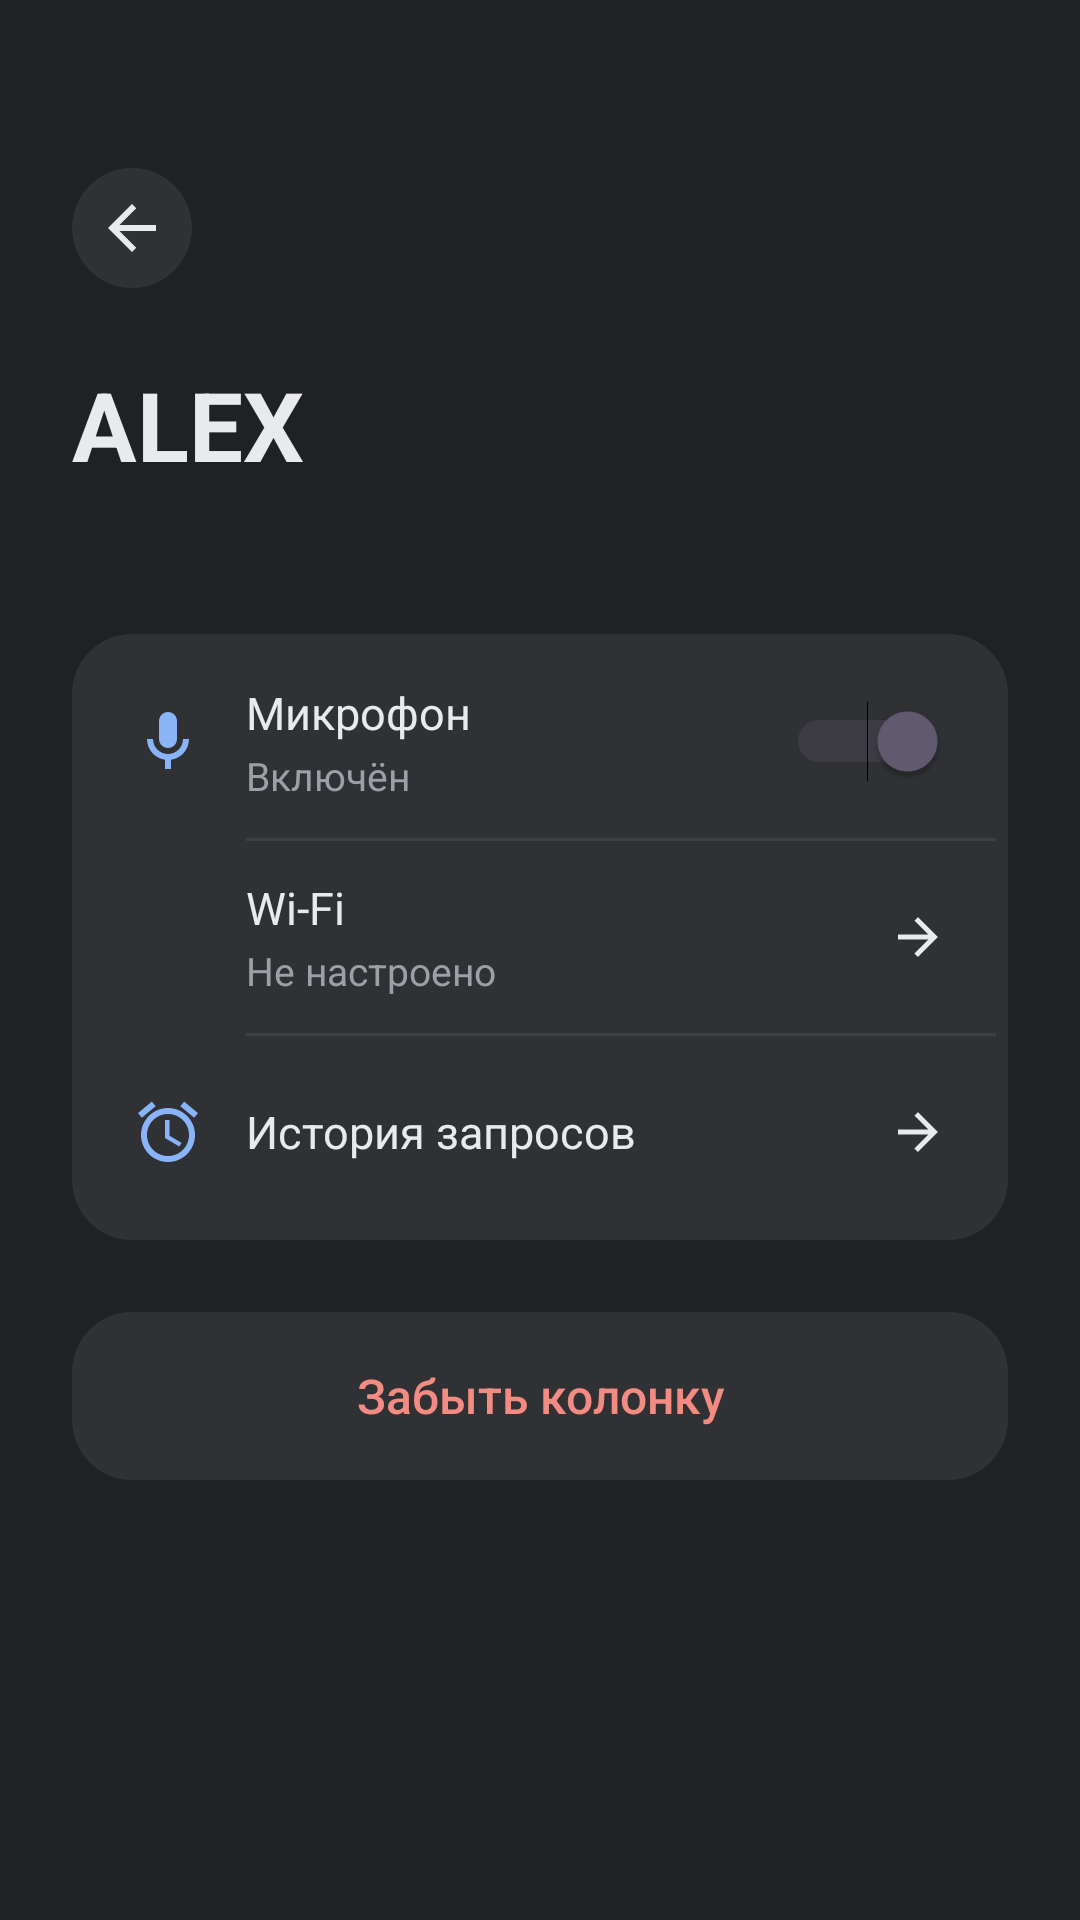

Named icons in this screenshot (1080 × 1920) and their bounding boxes, bbox=(x1, y1, x2, y2):
back: bbox=(72, 168, 192, 288)
mic: bbox=(147, 712, 189, 769)
